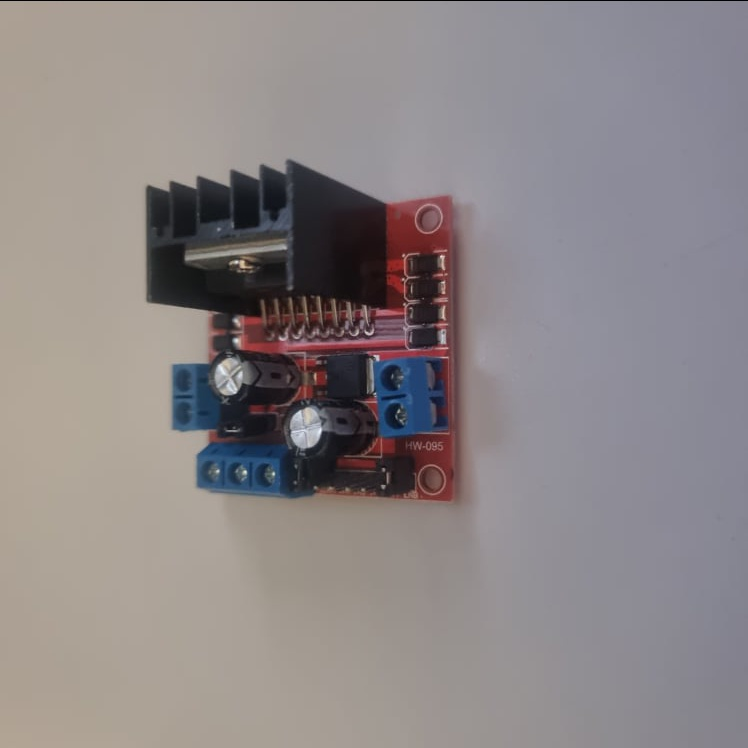MOTOR: (142, 158, 457, 502)
